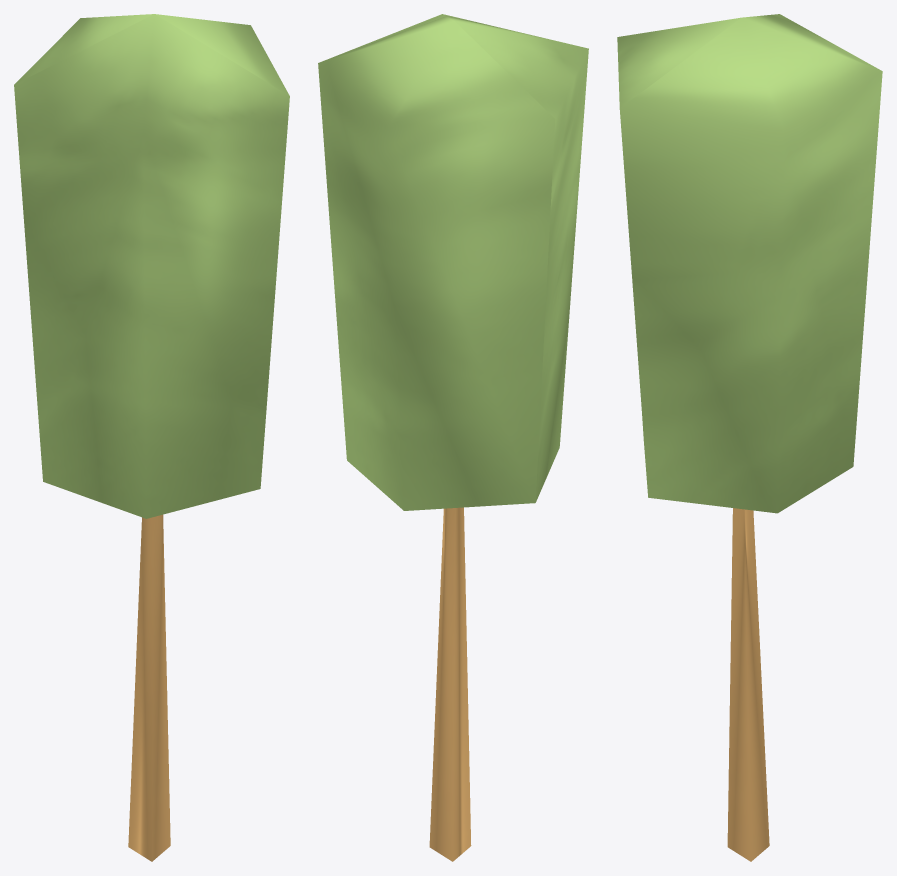
3 renders of one model, left to right at view 1: azimuth 30°, elevation 25°; view 2: azimuth 150°, elevation 25°; view 3: azimuth 270°, elevation 25°, orthographic.
Visible parts, largest first — view 1: LOD2Laza; view 2: LOD2Laza; view 3: LOD2Laza.
Part boxes in pixels (x1,y1,x2,y2): LOD2Laza: [14, 14, 289, 861]; LOD2Laza: [318, 14, 588, 861]; LOD2Laza: [617, 14, 882, 861].
Bounding box in the file's own units: 2.24 × 7.53 × 2.17.
1 material, 1 textured.
